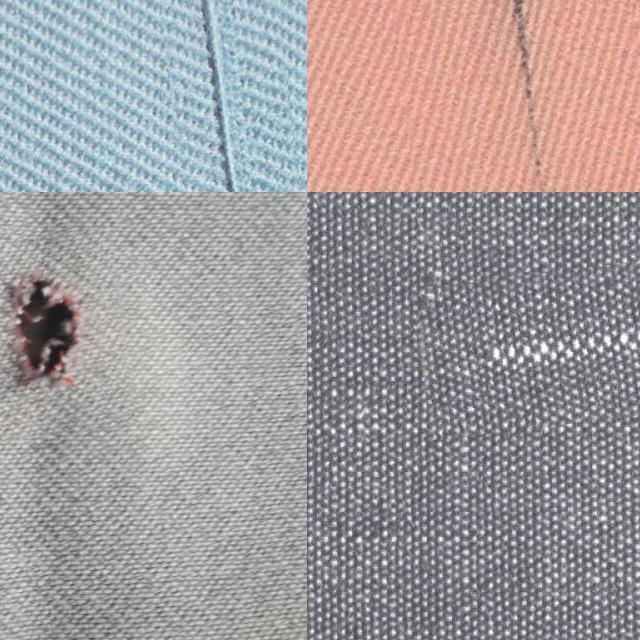other: (0, 231, 131, 441)
stains: (364, 0, 639, 192), (417, 253, 640, 428), (156, 0, 304, 192)
